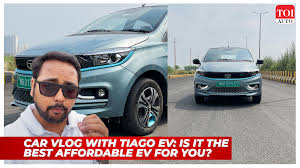Tiago: (193, 44, 264, 104)
